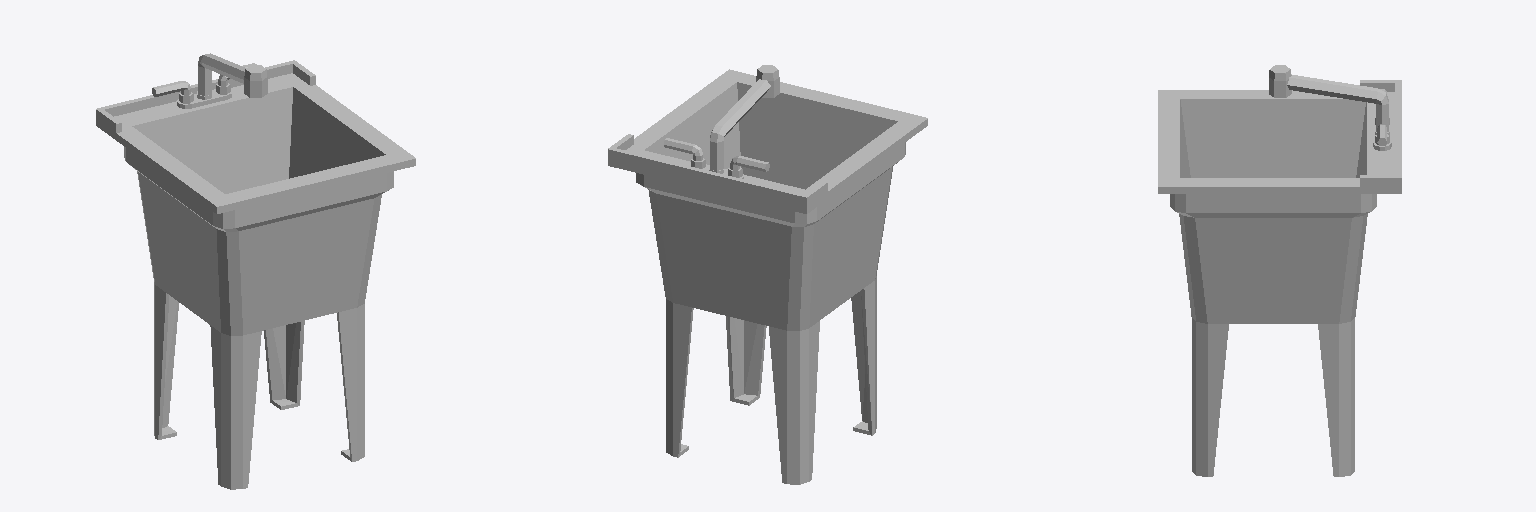
File: Sink(1).obj
The picture shows the model from 3 angles: view 1: azimuth 30°, elevation 25°; view 2: azimuth 150°, elevation 25°; view 3: azimuth 270°, elevation 25°; orthographic projection.
Visible parts, largest first — view 1: Cube; view 2: Cube; view 3: Cube.
Boxes of the visible parts, x1=… form: Cube: x1=96, y1=53, x2=415, y2=489; Cube: x1=608, y1=65, x2=927, y2=484; Cube: x1=1158, y1=65, x2=1401, y2=476.
Size of the model in its own units: 8.88 by 15.91 by 9.38.